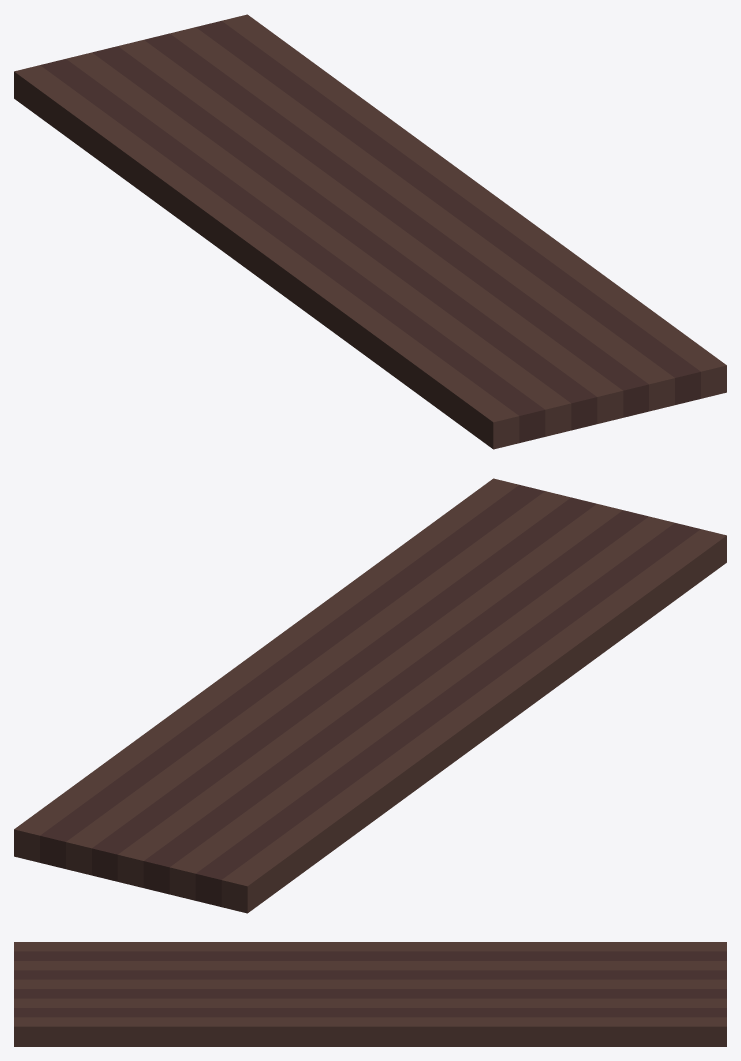
The model's file is granjafinal_tierra.obj.
3 renders of one model, top to bottom at view 1: azimuth 30°, elevation 25°; view 2: azimuth 150°, elevation 25°; view 3: azimuth 270°, elevation 25°, orthographic. The views are drawn at different scales.
Size of the model in its own units: 0.9 by 0.1 by 3.2.
Materials: 1 (1 with a texture image).
